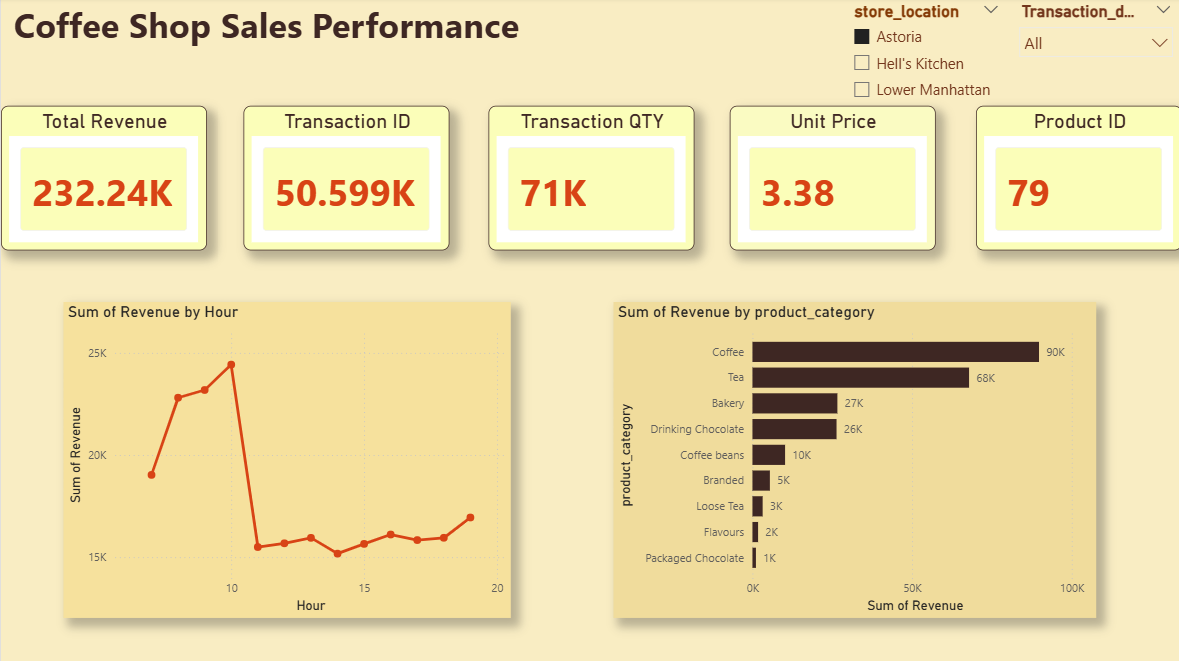

The page's visual inventory and layout, read from the dashboard file:
{"tool":"powerbi","page":{"name":"Overview","canvas":[1280,720],"ordinal":0},"visuals":[{"type":"textbox","box":[0,0,730.2,84],"z":0},{"type":"slicer","fields":{"Values":["public coffee_shop_sales.store_location"]},"box":[911.8,0,181.5,130.1],"z":1},{"type":"slicer","fields":{"Values":["public coffee_shop_sales.transaction_date"]},"box":[1093.3,0,187,84],"z":2},{"type":"cardVisual","title":"Total Revenue","fields":{"Data":["Sum(public coffee_shop_sales.Revenue)"]},"box":[0,117.9,223.5,157.2],"z":3},{"type":"cardVisual","title":"Transaction ID","fields":{"Data":["CountNonNull(public coffee_shop_sales.transaction_id)"]},"box":[262.8,117.9,223.5,157],"z":4},{"type":"cardVisual","title":"Transaction QTY","fields":{"Data":["Sum(public coffee_shop_sales.transaction_qty)"]},"box":[528.4,117.9,223.5,157.2],"z":5},{"type":"cardVisual","title":"Unit Price","fields":{"Data":["Avg(public coffee_shop_sales.unit_price)"]},"box":[789.8,117.9,223.5,157.2],"z":6},{"type":"cardVisual","title":"Product ID","fields":{"Data":["Count(public coffee_shop_sales.product_id)"]},"box":[1056.7,117.9,223.5,157.2],"z":7},{"type":"lineChart","fields":{"Category":["public coffee_shop_sales.Hour"],"Y":["Sum(public coffee_shop_sales.Revenue)"]},"box":[67.7,330.6,485,342.8],"z":8},{"type":"clusteredBarChart","fields":{"Y":["Sum(public coffee_shop_sales.Revenue)"],"Category":["public coffee_shop_sales.product_category"]},"box":[663.8,330.6,522.9,342.8],"z":9}]}

Visuals, with their boxes in screenshot pixels (x1, y1, x2, y2), scaled from the page's 1280x720 canvas onto the 1179x661 screenshot:
textbox: l=0, t=0, r=673, b=77
slicer - public coffee_shop_sales.store_location: l=840, t=0, r=1007, b=119
slicer - public coffee_shop_sales.transaction_date: l=1007, t=0, r=1178, b=77
"Total Revenue" cardVisual: l=0, t=108, r=206, b=253
"Transaction ID" cardVisual: l=242, t=108, r=448, b=252
"Transaction QTY" cardVisual: l=487, t=108, r=693, b=253
"Unit Price" cardVisual: l=727, t=108, r=933, b=253
"Product ID" cardVisual: l=973, t=108, r=1178, b=253
lineChart - public coffee_shop_sales.Hour x Sum(public coffee_shop_sales.Revenue): l=62, t=304, r=509, b=618
clusteredBarChart - Sum(public coffee_shop_sales.Revenue) x public coffee_shop_sales.product_category: l=611, t=304, r=1093, b=618
